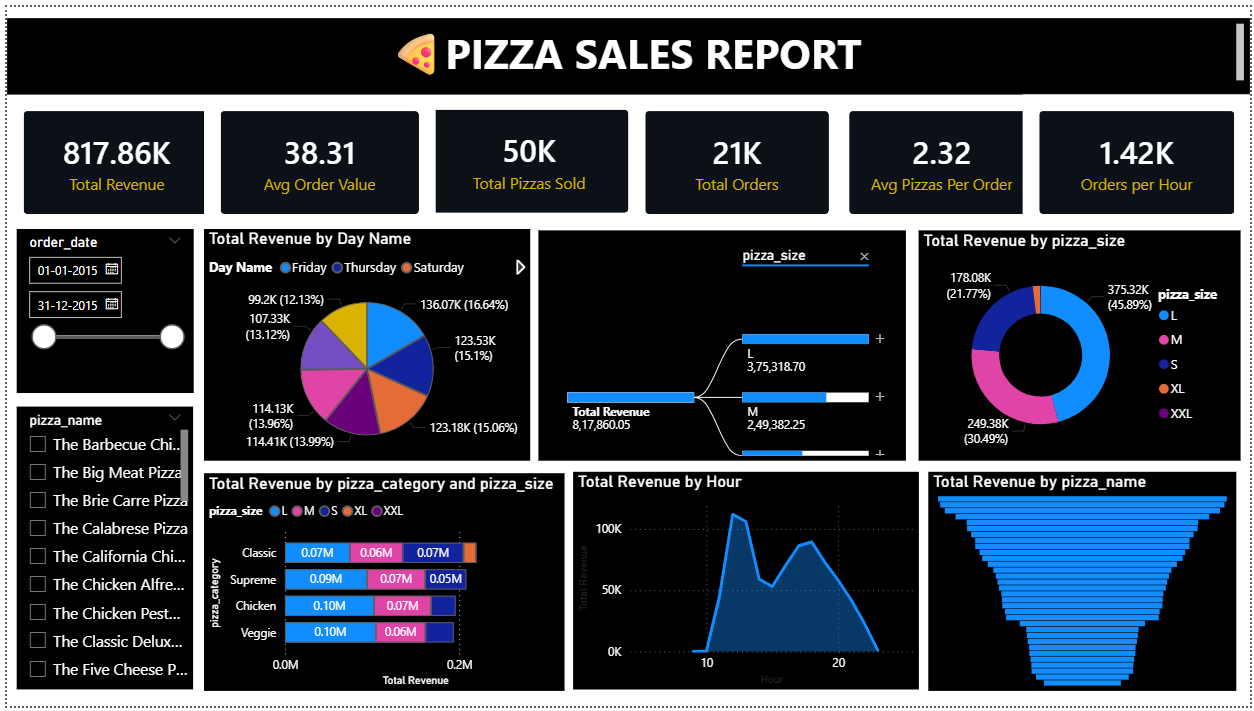

What the dashboard file says about the page in this screenshot:
{"tool":"powerbi","page":{"name":"Page 1","canvas":[1280,720],"ordinal":0},"visuals":[{"type":"cardVisual","fields":{"Data":["pizza_sales.Total Revenue"]},"box":[0,90,226.7,140],"z":0},{"type":"cardVisual","fields":{"Data":["pizza_sales.Total Orders"]},"box":[640,90,223.3,140],"z":1000},{"type":"cardVisual","fields":{"Data":["pizza_sales.Total Pizzas Sold"]},"box":[418.3,88.3,238.3,140],"z":2000},{"type":"cardVisual","fields":{"Data":["pizza_sales.Avg Order Value"]},"box":[203.3,90,238.3,140],"z":3000},{"type":"cardVisual","fields":{"Data":["pizza_sales.Avg Pizzas Per Order"]},"box":[850,90,225,140],"z":4000},{"type":"textbox","box":[0,11.7,1280,78.3],"z":5000},{"type":"cardVisual","fields":{"Data":["pizza_sales.Orders per Hour"]},"box":[1045,90,235,140],"z":6000},{"type":"pieChart","fields":{"Y":["pizza_sales.Total Revenue"],"Category":["pizza_sales.Day Name"]},"box":[202.9,228.6,335.7,238.6],"z":7000},{"type":"decompositionTreeVisual","fields":{"Analyze":["pizza_sales.Total Revenue"],"ExplainBy":["pizza_sales.pizza_size","pizza_sales.pizza_category","pizza_sales.Day Name"]},"box":[547.1,230,378.6,237.1],"z":8000},{"type":"barChart","fields":{"Category":["pizza_sales.pizza_category"],"Y":["pizza_sales.Total Revenue"],"Series":["pizza_sales.pizza_size"]},"box":[202.9,480,371.4,224.3],"z":9000},{"type":"areaChart","fields":{"Category":["pizza_sales.Hour"],"Y":["pizza_sales.Total Revenue"]},"box":[582.9,478.6,355.7,224.3],"z":10000},{"type":"donutChart","fields":{"Y":["pizza_sales.Total Revenue"],"Category":["pizza_sales.pizza_size"]},"box":[938.6,230,331.4,237.1],"z":11000},{"type":"funnel","fields":{"Category":["pizza_sales.pizza_name"],"Y":["pizza_sales.Total Revenue"]},"box":[948.6,478.6,317.1,225.7],"z":12000},{"type":"slicer","fields":{"Values":["pizza_sales.order_date"]},"box":[10,228.6,181.4,168.6],"z":13000},{"type":"slicer","fields":{"Values":["pizza_sales.pizza_name"]},"box":[10,411.4,181.4,291.4],"z":14000}]}

Visuals, with their boxes in screenshot pixels (x1, y1, x2, y2), scaled from the page's 1280x720 canvas onto the 1254x711 screenshot:
cardVisual - pizza_sales.Total Revenue: detection(0, 89, 222, 227)
cardVisual - pizza_sales.Total Orders: detection(627, 89, 846, 227)
cardVisual - pizza_sales.Total Pizzas Sold: detection(410, 87, 643, 225)
cardVisual - pizza_sales.Avg Order Value: detection(199, 89, 433, 227)
cardVisual - pizza_sales.Avg Pizzas Per Order: detection(833, 89, 1053, 227)
textbox: detection(0, 12, 1253, 89)
cardVisual - pizza_sales.Orders per Hour: detection(1024, 89, 1253, 227)
pieChart - pizza_sales.Total Revenue x pizza_sales.Day Name: detection(199, 226, 528, 461)
decompositionTreeVisual - pizza_sales.Total Revenue x pizza_sales.pizza_size: detection(536, 227, 907, 461)
barChart - pizza_sales.pizza_category x pizza_sales.Total Revenue: detection(199, 474, 563, 695)
areaChart - pizza_sales.Hour x pizza_sales.Total Revenue: detection(571, 473, 920, 694)
donutChart - pizza_sales.Total Revenue x pizza_sales.pizza_size: detection(920, 227, 1244, 461)
funnel - pizza_sales.pizza_name x pizza_sales.Total Revenue: detection(929, 473, 1240, 695)
slicer - pizza_sales.order_date: detection(10, 226, 188, 392)
slicer - pizza_sales.pizza_name: detection(10, 406, 188, 694)
